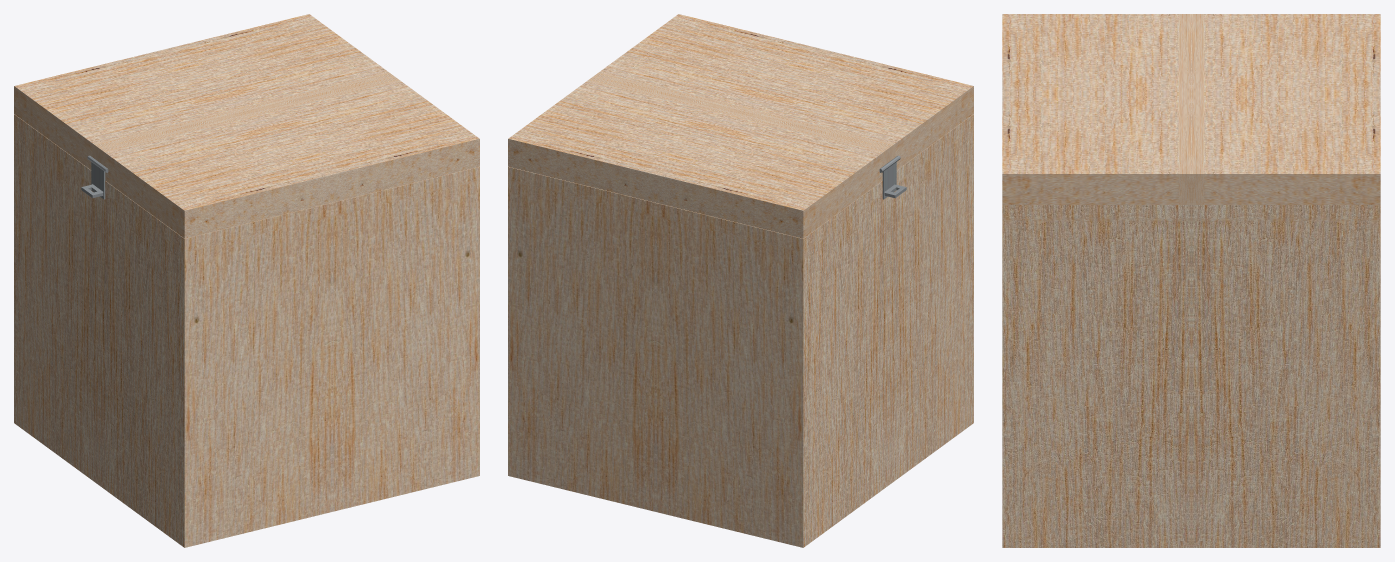
File: chest.fbx
3 renders of one model, left to right at view 1: azimuth 30°, elevation 25°; view 2: azimuth 150°, elevation 25°; view 3: azimuth 270°, elevation 25°, orthographic. The views are drawn at different scales.
Parts seen in each view (by area): view 1: Cube; view 2: Cube; view 3: Cube.
Boxes of the visible parts, left/top/right/bottom form: Cube: left=14, top=14, right=479, bottom=547; Cube: left=508, top=14, right=973, bottom=547; Cube: left=1002, top=14, right=1380, bottom=547.
Bounding box in the file's own units: 41.67 × 43.65 × 40.
Materials: 2 (2 with a texture image).
